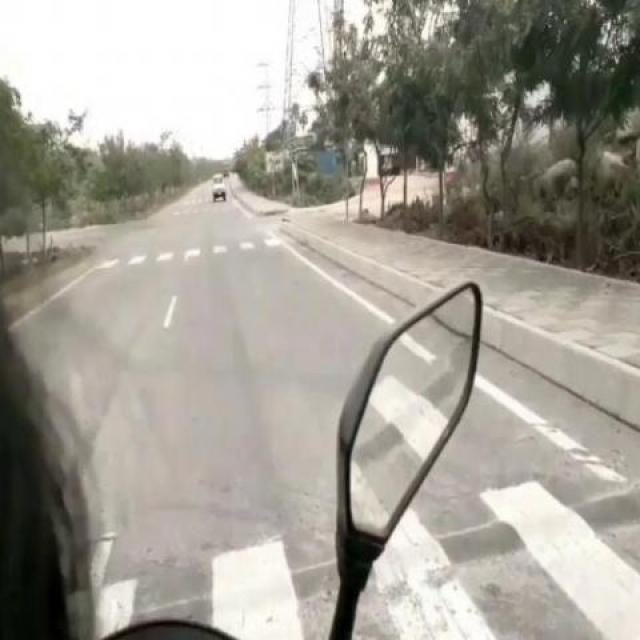Speed Bump: (408, 484, 639, 591), (126, 544, 334, 619), (558, 617, 638, 639)
